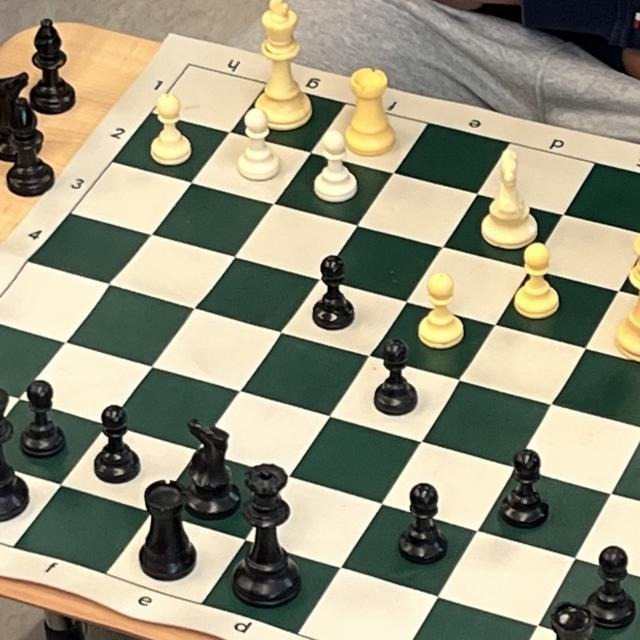black-bishop: (26, 18, 78, 110)
black-king: (0, 76, 56, 203)
black-knight: (185, 417, 243, 530), (550, 590, 616, 639)
black-pawn: (590, 536, 636, 631), (401, 476, 445, 575), (96, 402, 139, 495), (502, 447, 545, 540), (316, 247, 356, 345), (377, 335, 419, 427), (23, 377, 62, 470)
black-queen: (229, 462, 303, 605)
black-rook: (143, 478, 200, 582)
white-king: (254, 0, 312, 131)
white-knight: (479, 147, 540, 249)
white-pawn: (513, 242, 559, 319), (418, 272, 462, 352), (312, 130, 358, 202), (149, 92, 194, 164), (238, 110, 280, 182)
white-rook: (346, 67, 396, 156)
